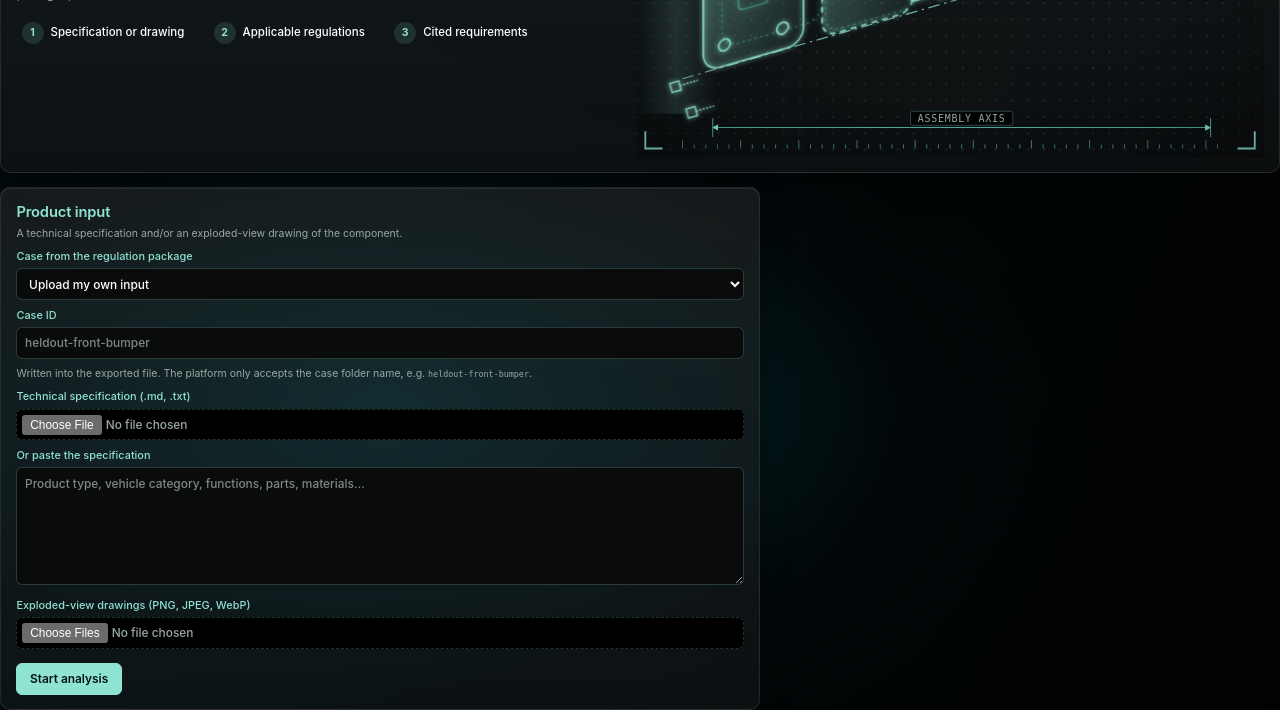
Test: new analysis input screen › will not start an upload without a case ID
(page scrolled)
Type "A front bumper" into the text box with placeholder "Product type".
click(380, 526); type("A front bumper")  # box [16, 467, 744, 585]
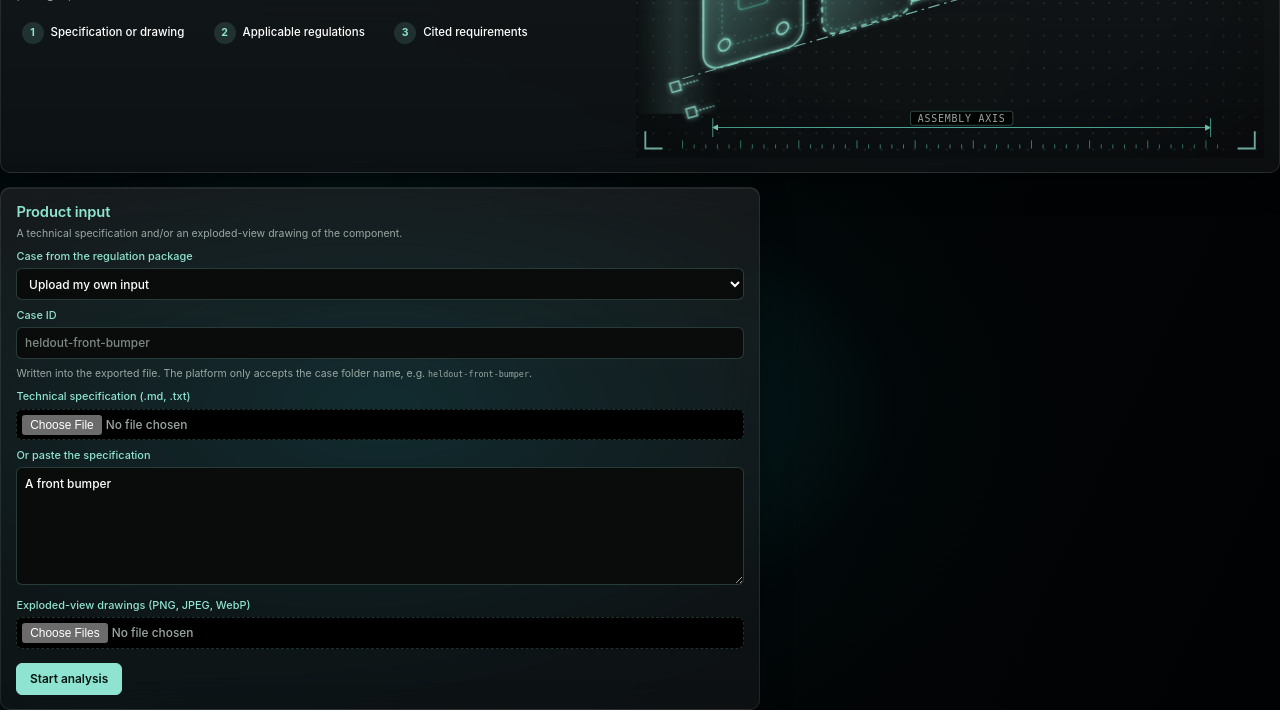
Click the button "Start analysis".
click(69, 679)  # box [16, 663, 122, 695]
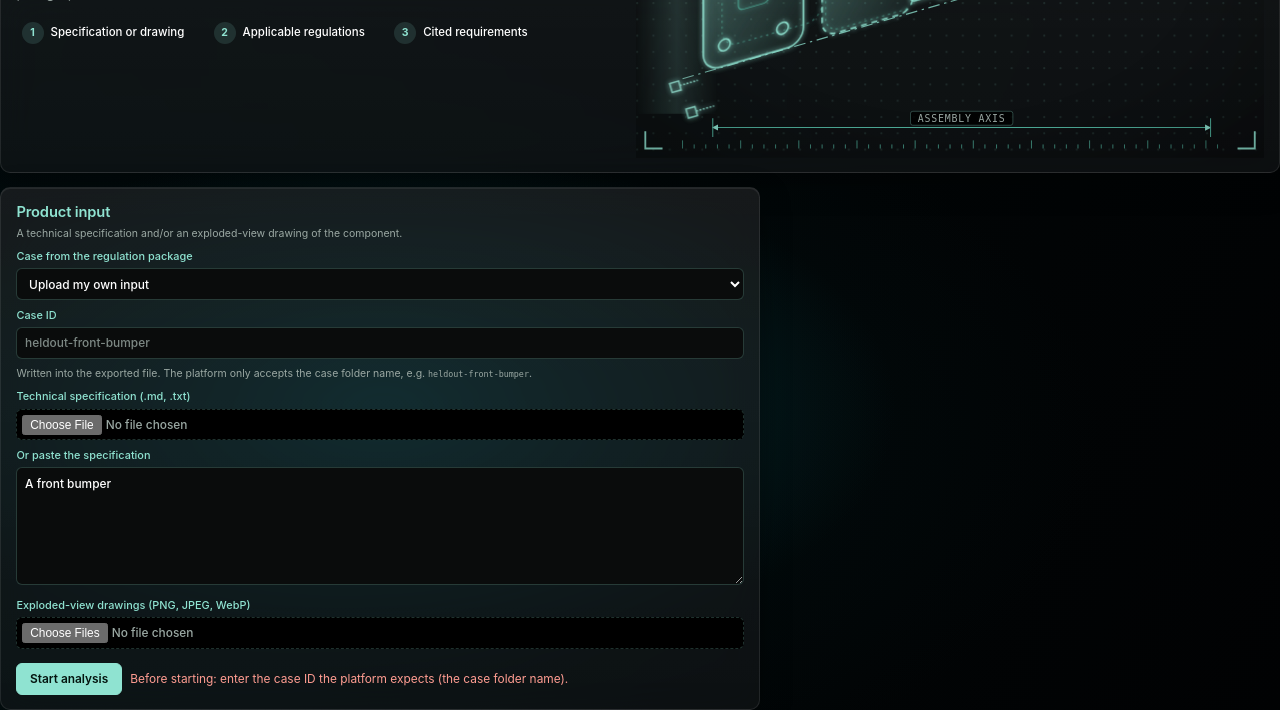
Now the message shows "case ID", box [130, 671, 568, 686]
